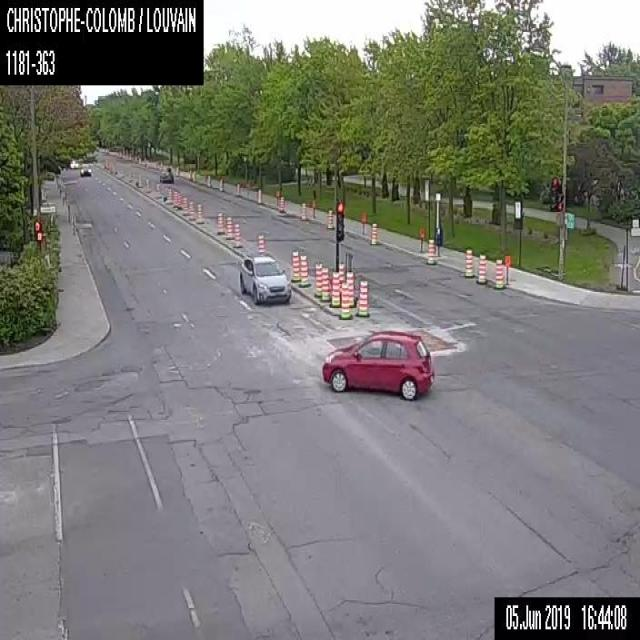construction: (339, 280, 352, 318), (328, 270, 341, 308), (356, 278, 368, 316), (345, 270, 356, 306), (298, 254, 310, 286), (320, 266, 330, 301), (290, 250, 301, 281), (494, 256, 504, 288), (313, 262, 322, 297), (463, 245, 472, 278), (478, 250, 487, 282), (338, 262, 344, 301), (426, 237, 434, 264), (225, 216, 234, 239), (233, 222, 241, 247), (216, 211, 224, 234), (195, 203, 204, 223), (504, 254, 510, 283), (326, 208, 334, 228), (256, 232, 264, 252), (359, 211, 366, 233), (369, 223, 376, 244), (188, 200, 195, 220), (419, 227, 424, 250), (300, 202, 306, 220), (182, 197, 188, 214), (172, 190, 178, 207), (176, 192, 182, 208), (166, 187, 172, 203), (311, 199, 316, 217), (137, 172, 142, 188), (279, 196, 284, 212), (155, 182, 160, 198), (144, 178, 149, 192), (275, 189, 279, 205), (257, 188, 261, 203), (219, 177, 223, 191), (236, 182, 240, 193), (206, 174, 210, 185), (192, 170, 195, 181), (189, 169, 191, 180), (176, 166, 178, 176)
vehicle: (322, 329, 434, 402), (238, 252, 292, 304), (159, 166, 173, 182), (80, 162, 92, 176), (69, 158, 78, 169)
